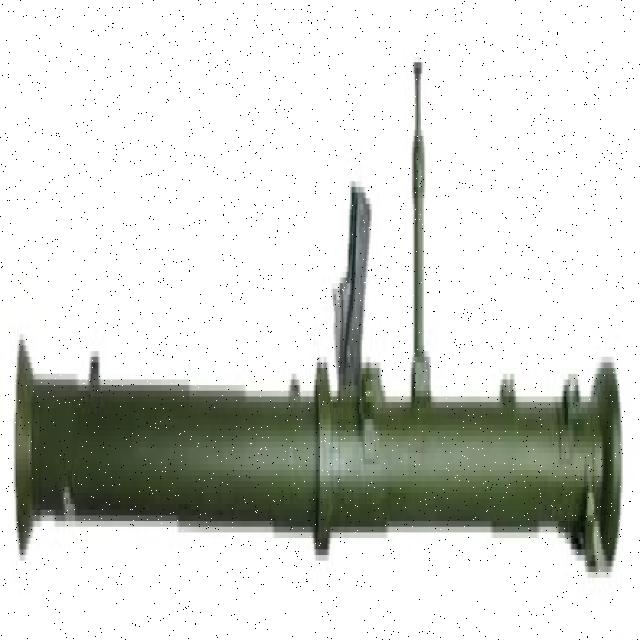bazooka: (11, 44, 627, 592)
